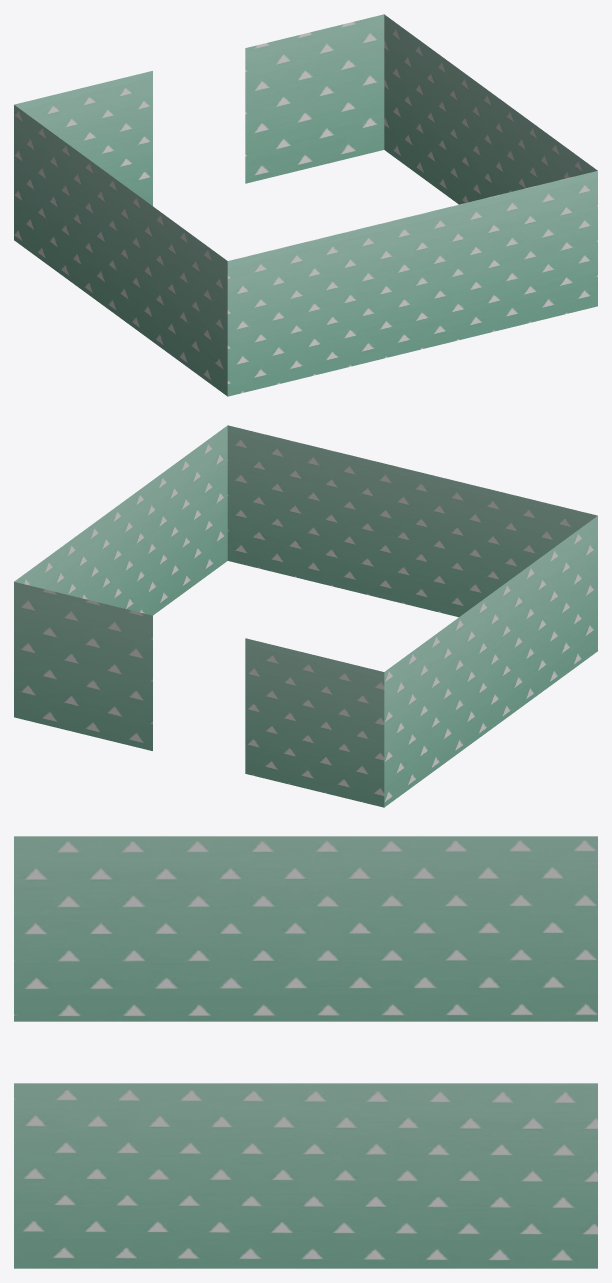
File: OutsideWalls.fbx
3 views of the same model, one above another, from view 1: azimuth 30°, elevation 25°; view 2: azimuth 150°, elevation 25°; view 3: azimuth 270°, elevation 25° (orthographic). The views are drawn at different scales.
Visible parts, largest first — view 1: Room1OutsideLvl1.004, Room1OutsideLvl1.005, Room1OutsideLvl1.001, Room1OutsideLvl1.003, Room1OutsideLvl1.002; view 2: Room1OutsideLvl1.004, Room1OutsideLvl1.005, Room1OutsideLvl1.001, Room1OutsideLvl1.002, Room1OutsideLvl1.003; view 3: Room1OutsideLvl1.001, Room1OutsideLvl1.005.
Boxes of the visible parts, <box> form: Room1OutsideLvl1.004: <box>227,171,597,396</box>; Room1OutsideLvl1.005: <box>14,105,227,396</box>; Room1OutsideLvl1.001: <box>384,14,597,204</box>; Room1OutsideLvl1.003: <box>245,14,384,183</box>; Room1OutsideLvl1.002: <box>14,71,152,205</box>; Room1OutsideLvl1.004: <box>227,425,597,617</box>; Room1OutsideLvl1.005: <box>384,516,597,807</box>; Room1OutsideLvl1.001: <box>14,425,227,615</box>; Room1OutsideLvl1.002: <box>245,638,384,807</box>; Room1OutsideLvl1.003: <box>14,582,152,750</box>; Room1OutsideLvl1.001: <box>14,1083,597,1268</box>; Room1OutsideLvl1.005: <box>14,836,597,1021</box>.
Bounding box in the file's own units: 600 × 210 × 600.
